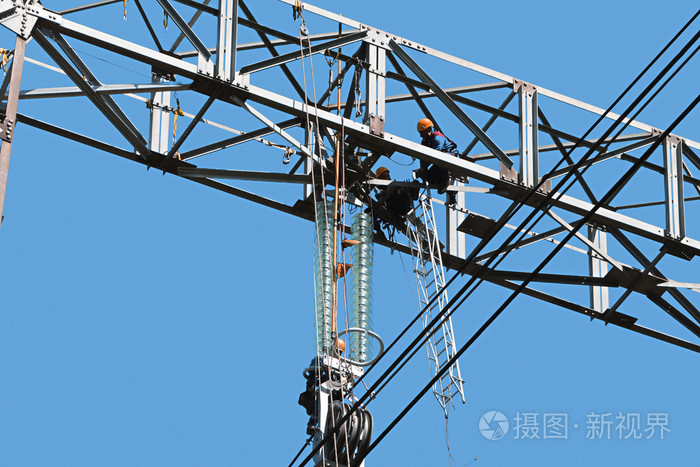insulator: (349, 213, 372, 361), (313, 197, 333, 355)
